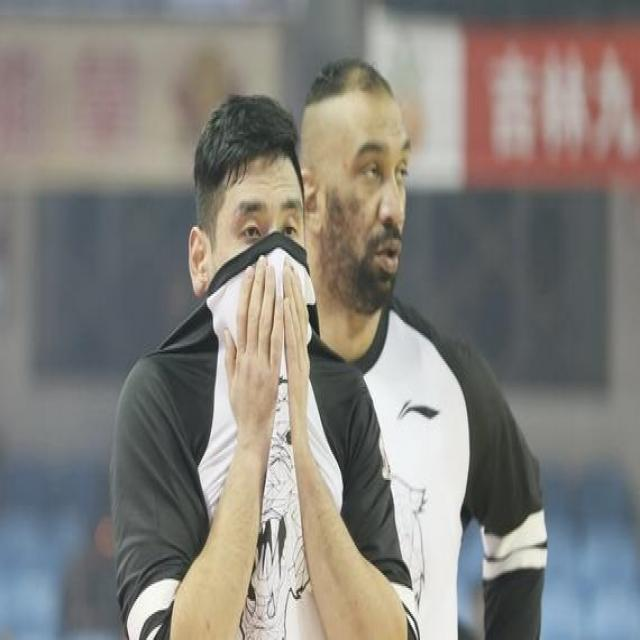mask: (207, 152, 303, 340)
nomask: (331, 92, 408, 299)
